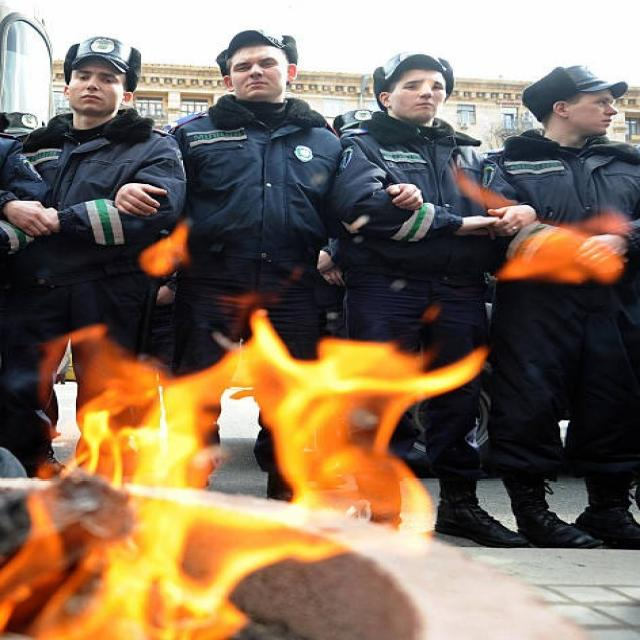fire: (0, 308, 488, 640), (496, 213, 632, 286), (453, 165, 519, 211), (138, 222, 190, 277)
